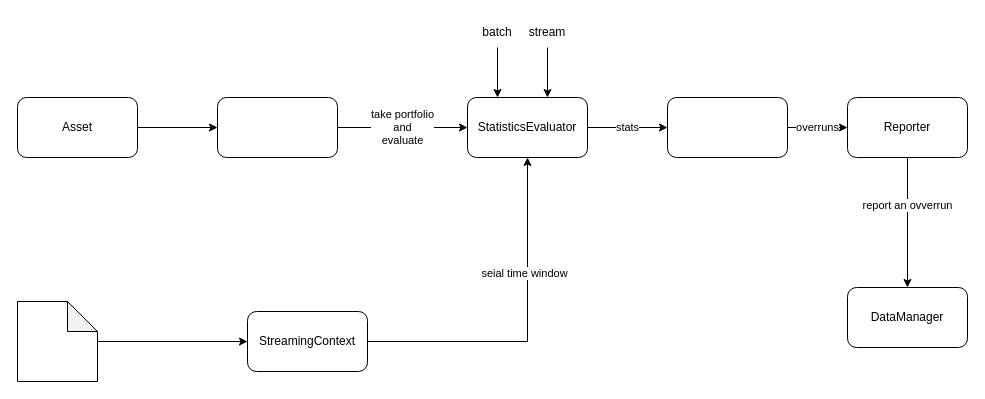
The diagram is 985 pixels wide and 399 high, and some of its shapes have lost their labels. The box of each missing label's shape, as (x1, y1, x2, y2) in pixels:
PortfolioMonitor: (216, 96, 338, 158)
RiskEvaluator: (666, 96, 788, 158)
yields.txt: (16, 300, 98, 382)
